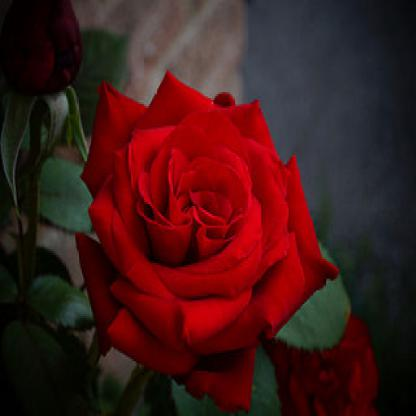Rose-Mawar: (72, 54, 341, 415)
